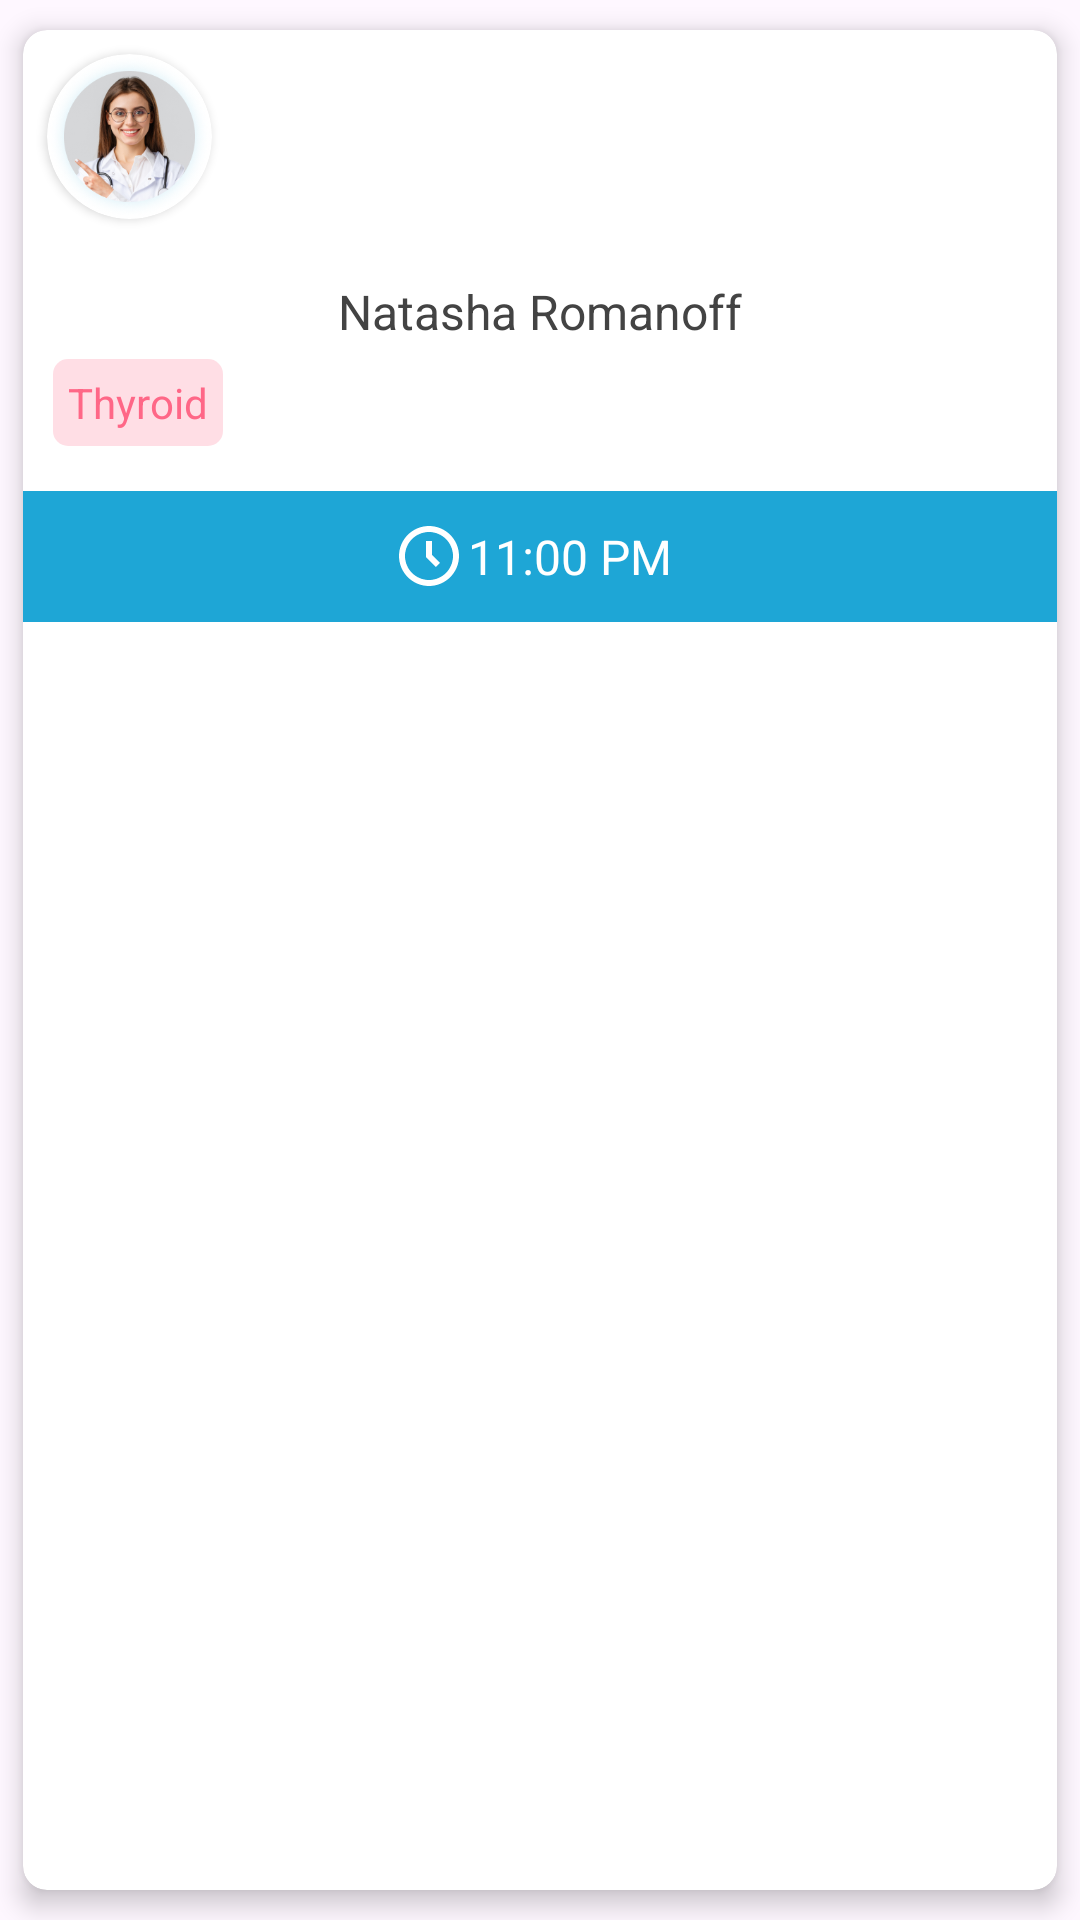

Named icons in this screenshot (1080×1920) and their bounding boxes, (x1, y1, x2, y2):
profile: (64, 71, 195, 202)
time: (399, 526, 459, 586)
